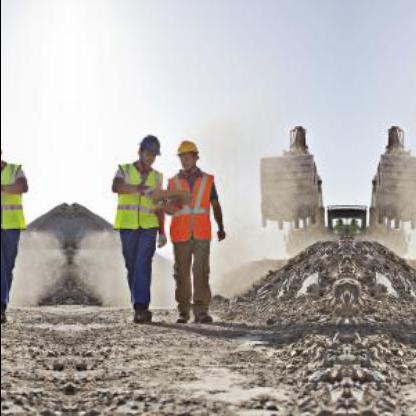Helmet: (170, 134, 200, 170), (132, 131, 160, 165), (0, 130, 5, 166)
